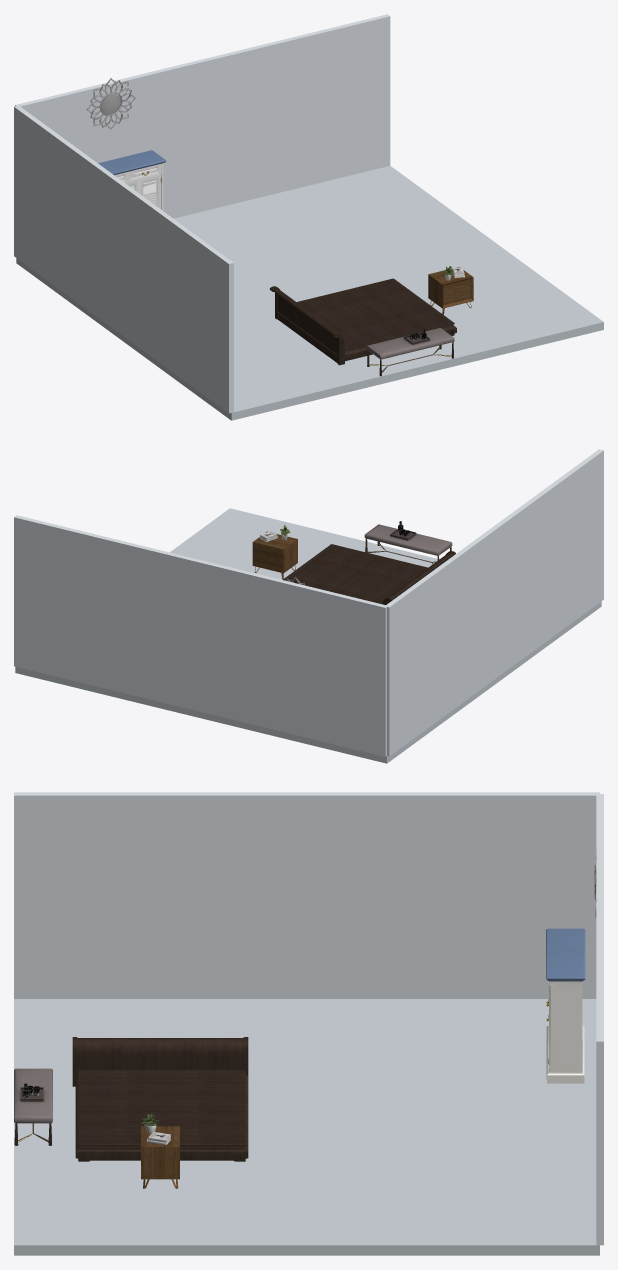
The model's file is stage2.glb.
The picture shows the model from 3 angles, top to bottom: view 1: azimuth 30°, elevation 25°; view 2: azimuth 150°, elevation 25°; view 3: azimuth 270°, elevation 25°; orthographic projection. The views are drawn at different scales.
Parts seen in each view (by area): view 1: Floor, wall_back, wall_left, raw_model, raw_model.002, raw_model.001, solid_001, raw_model.003; view 2: wall_back, wall_left, Floor, raw_model, raw_model.001, solid_001; view 3: Floor, wall_left, raw_model, raw_model.002, wall_back, raw_model.001, solid_001.
Boxes of the visible parts, box(x1,y1,x2,y2) form: Floor: box(16, 165, 603, 420); wall_back: box(15, 14, 390, 218); wall_left: box(14, 105, 233, 413); raw_model: box(269, 278, 456, 365); raw_model.002: box(98, 150, 166, 210); raw_model.001: box(428, 266, 473, 314); solid_001: box(366, 327, 454, 359); raw_model.003: box(86, 78, 135, 129); wall_back: box(14, 515, 387, 756); wall_left: box(386, 449, 603, 756); Floor: box(15, 508, 601, 763); raw_model: box(283, 544, 455, 604); raw_model.001: box(252, 525, 297, 579); solid_001: box(364, 524, 452, 555); Floor: box(14, 999, 599, 1255); wall_left: box(14, 792, 599, 998); raw_model: box(72, 1037, 248, 1161); raw_model.002: box(546, 928, 585, 1083); wall_back: box(596, 794, 603, 1245); raw_model.001: box(141, 1114, 179, 1188); solid_001: box(14, 1068, 52, 1123).
Bounding box in the file's own units: 6.04 × 2.52 × 6.04.
Materials: 7 (5 with a texture image).
